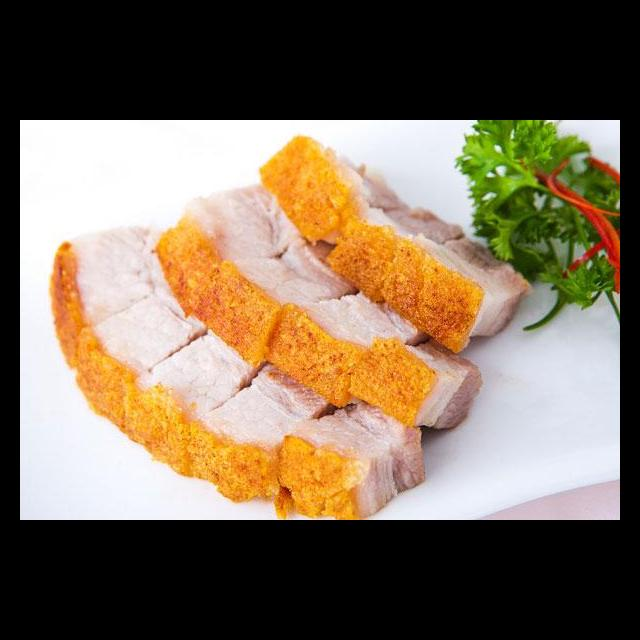thit heo quay: (319, 200, 539, 358), (146, 180, 323, 326), (187, 233, 369, 371), (183, 353, 342, 506), (121, 321, 275, 476), (73, 279, 218, 443), (259, 282, 441, 412), (48, 213, 183, 376), (254, 127, 410, 256), (270, 393, 428, 520), (344, 332, 487, 436)
